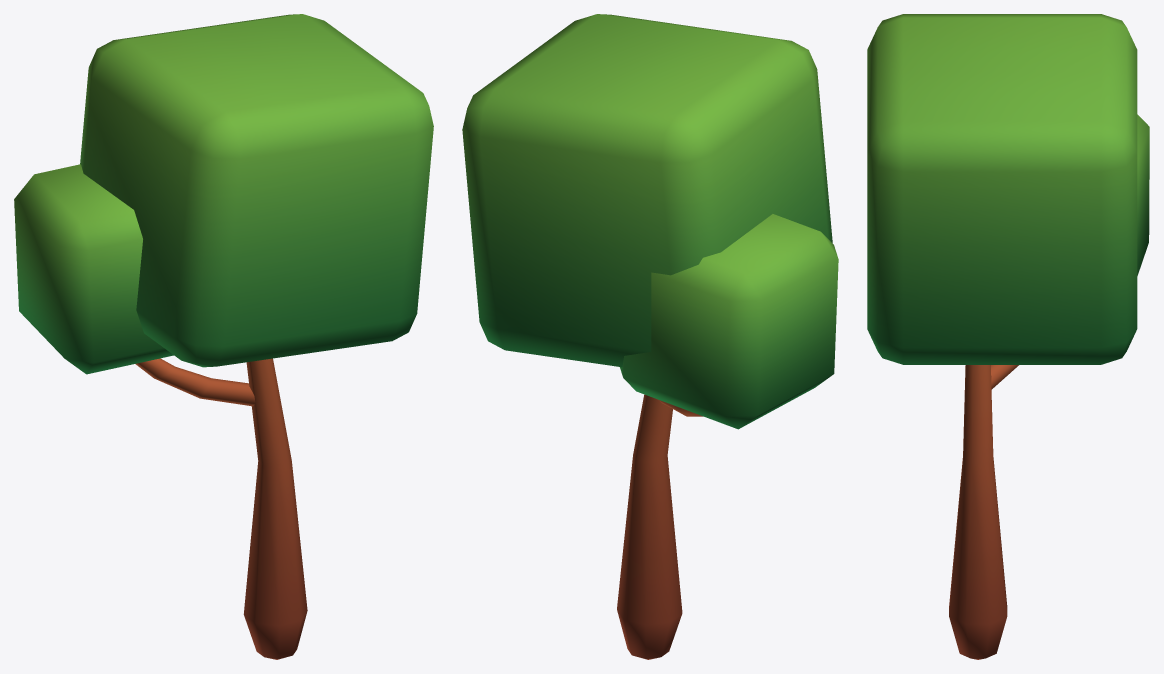
Rendered from Tree_2_A_Color1.glb.
3 views of the same model, side by side, from view 1: azimuth 30°, elevation 25°; view 2: azimuth 150°, elevation 25°; view 3: azimuth 270°, elevation 25° (orthographic). The views are drawn at different scales.
Visible parts, largest first — view 1: Tree_2_A_Color1; view 2: Tree_2_A_Color1; view 3: Tree_2_A_Color1.
Part boxes in pixels (box(x1,y1,x2,y2)): Tree_2_A_Color1: box(14, 14, 433, 659); Tree_2_A_Color1: box(462, 14, 838, 659); Tree_2_A_Color1: box(867, 14, 1149, 659).
Size of the model in its own units: 2.6 by 4.67 by 2.
1 material, 1 textured.
